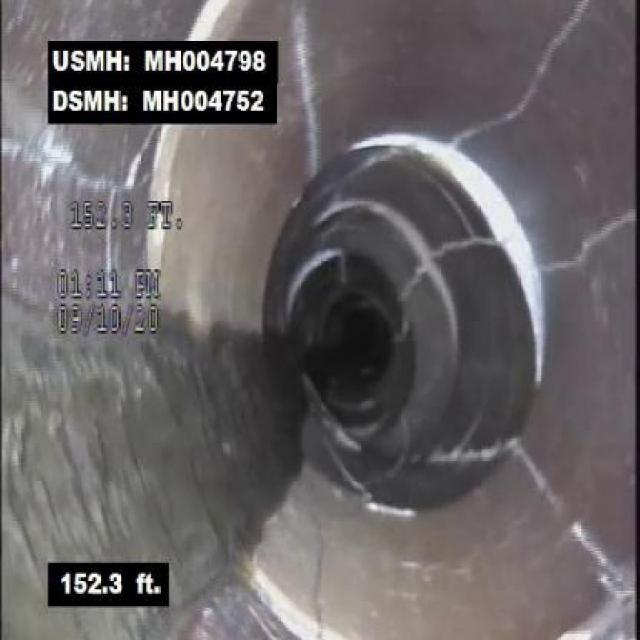Crack: (452, 11, 594, 149), (518, 448, 628, 597), (537, 200, 638, 278), (289, 11, 334, 178)
Joint offset: (402, 136, 530, 227), (489, 228, 546, 394), (246, 568, 349, 637)
